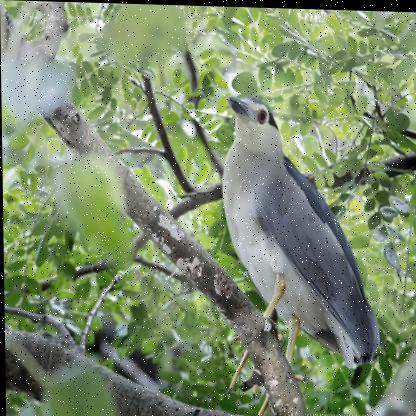Burung: (219, 87, 382, 381)
